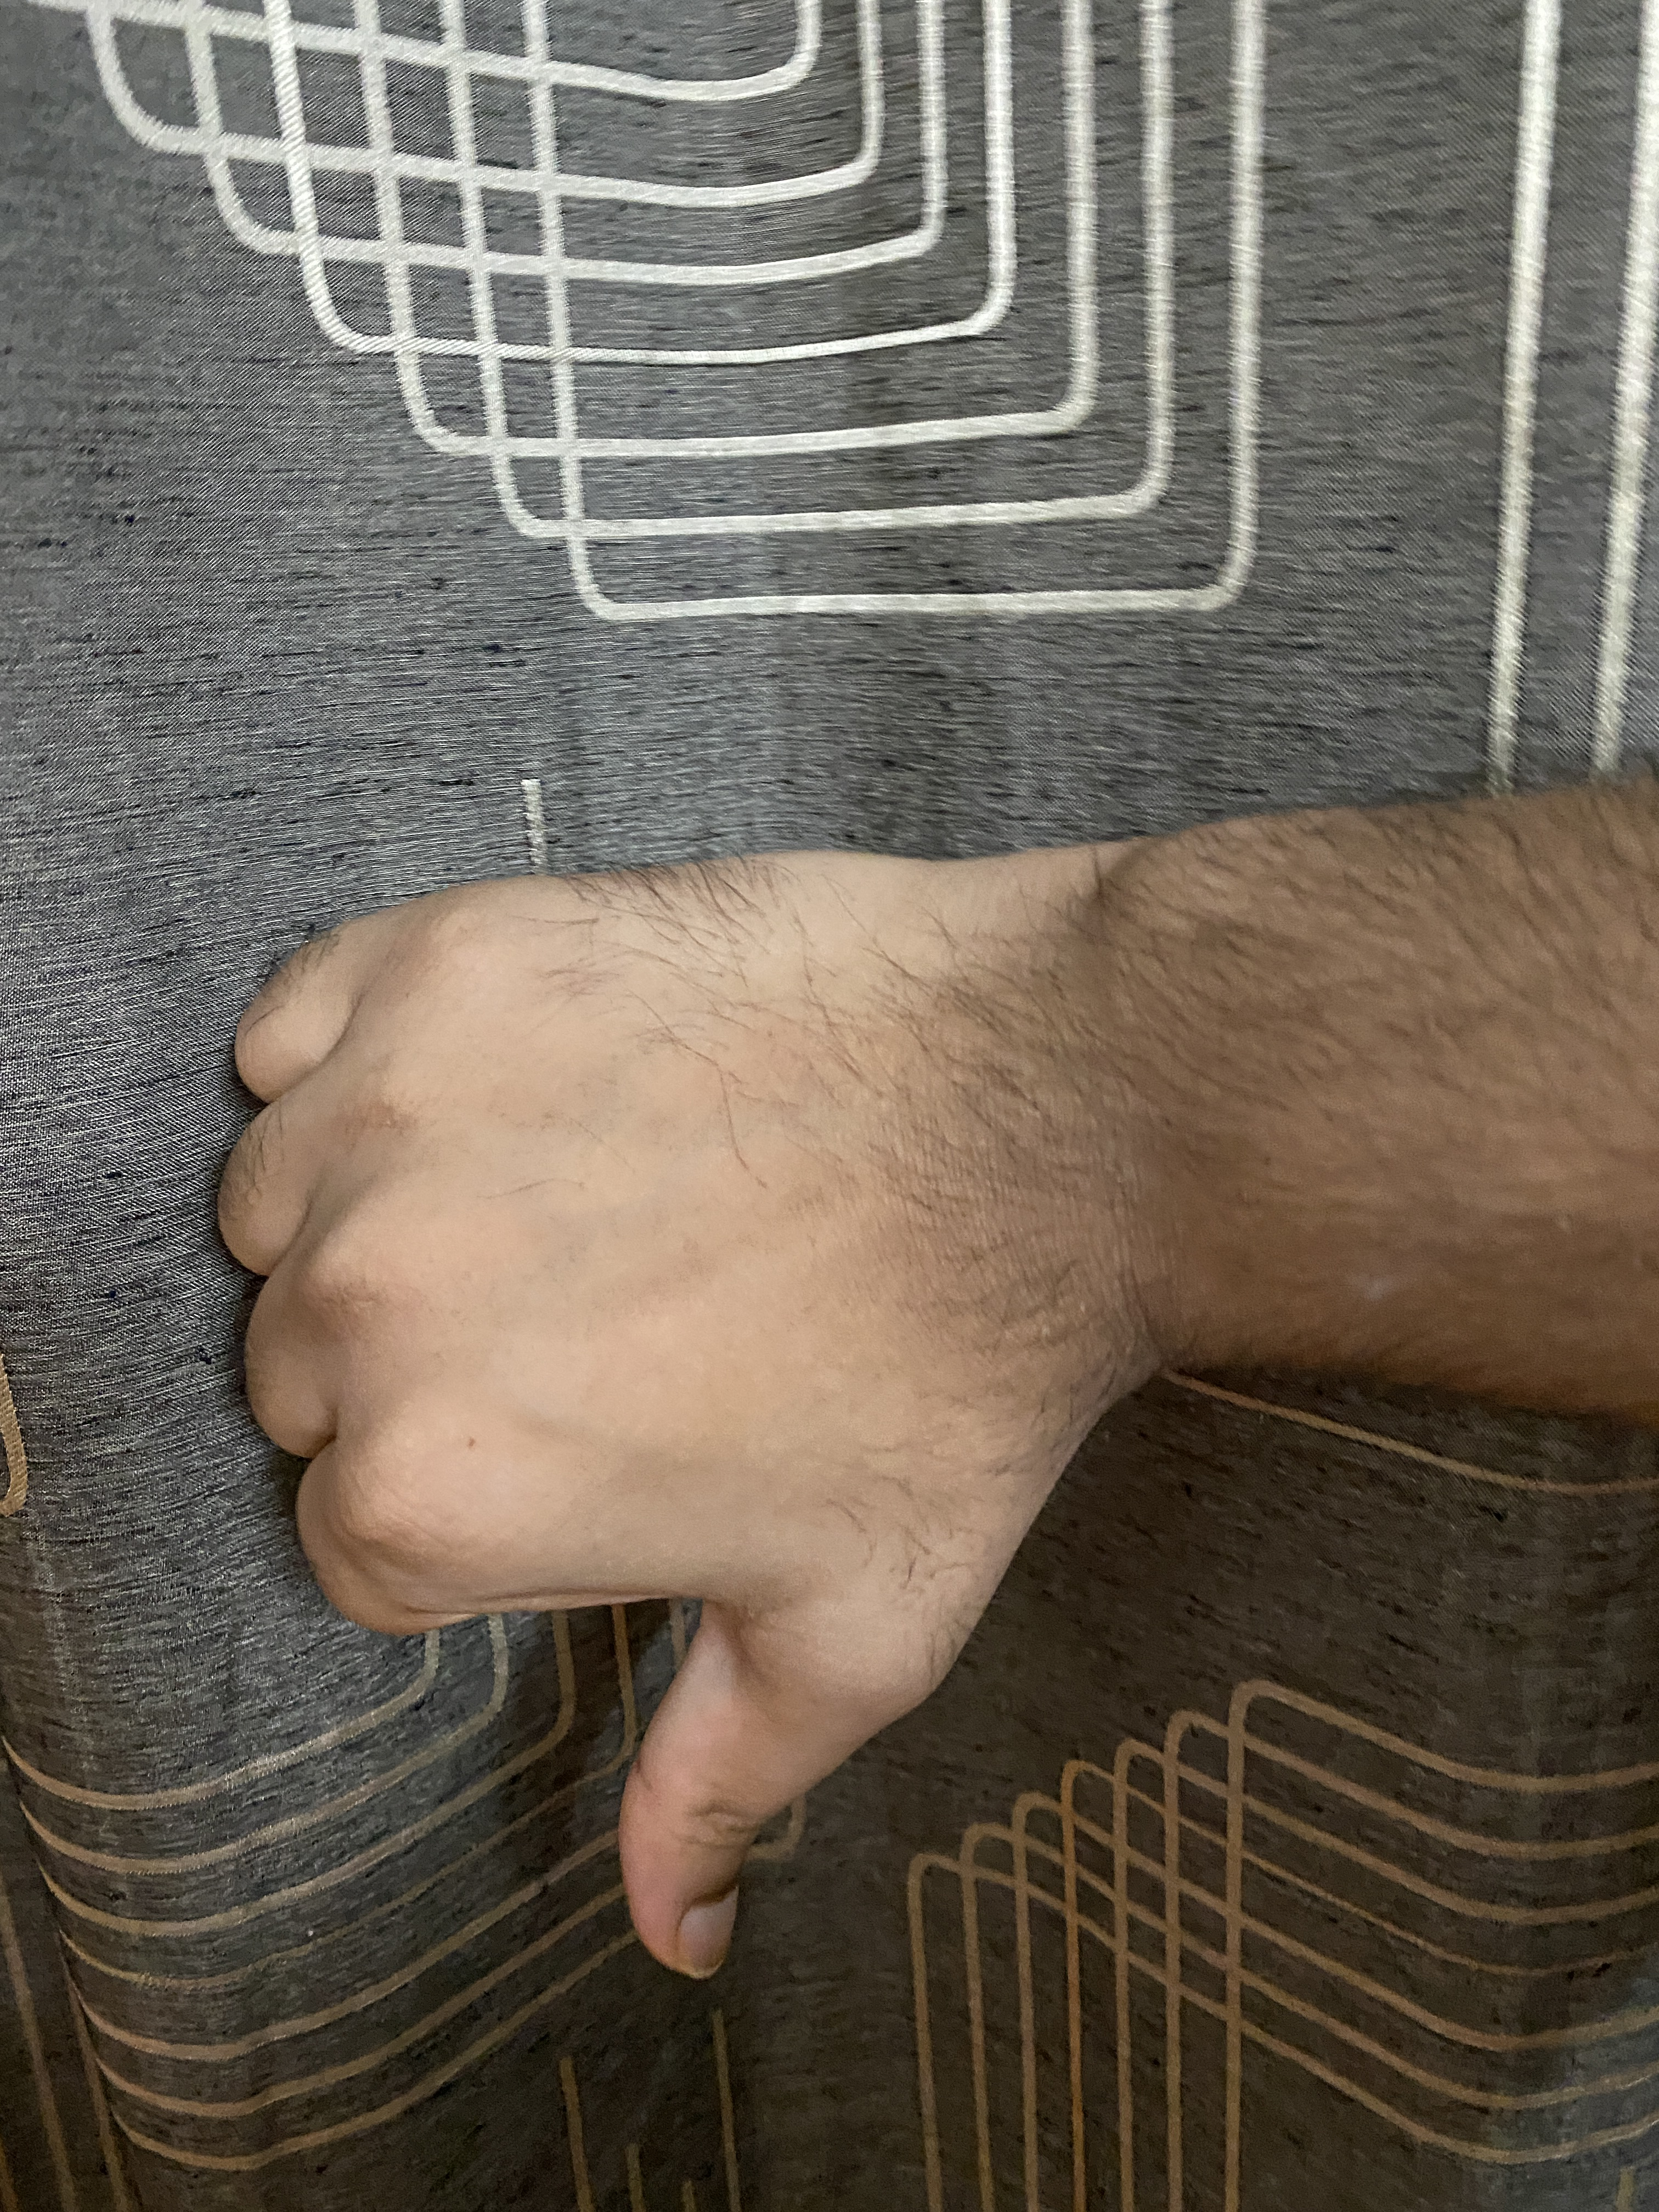down: (213, 644, 1659, 2043)
